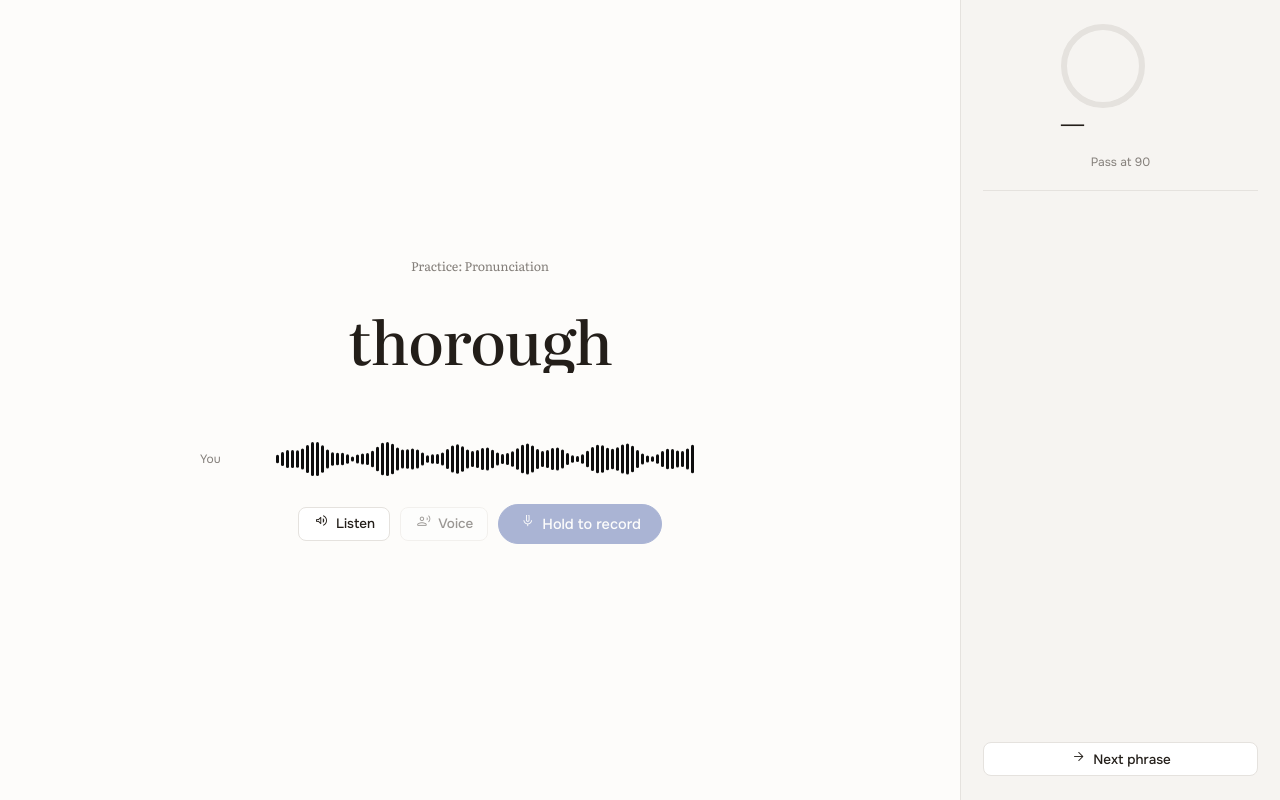
PronunciationDrill › shows labelled You waveform and the Model row only after Listen was played
Expected: the text "You" is shown, [200,451,221,467]
Expected: the text "Model" is not shown
What coordinates should you click on to do the following:
click the button "Listen"
I would click on:
 (344, 524)
Its box is [298,507,390,541].
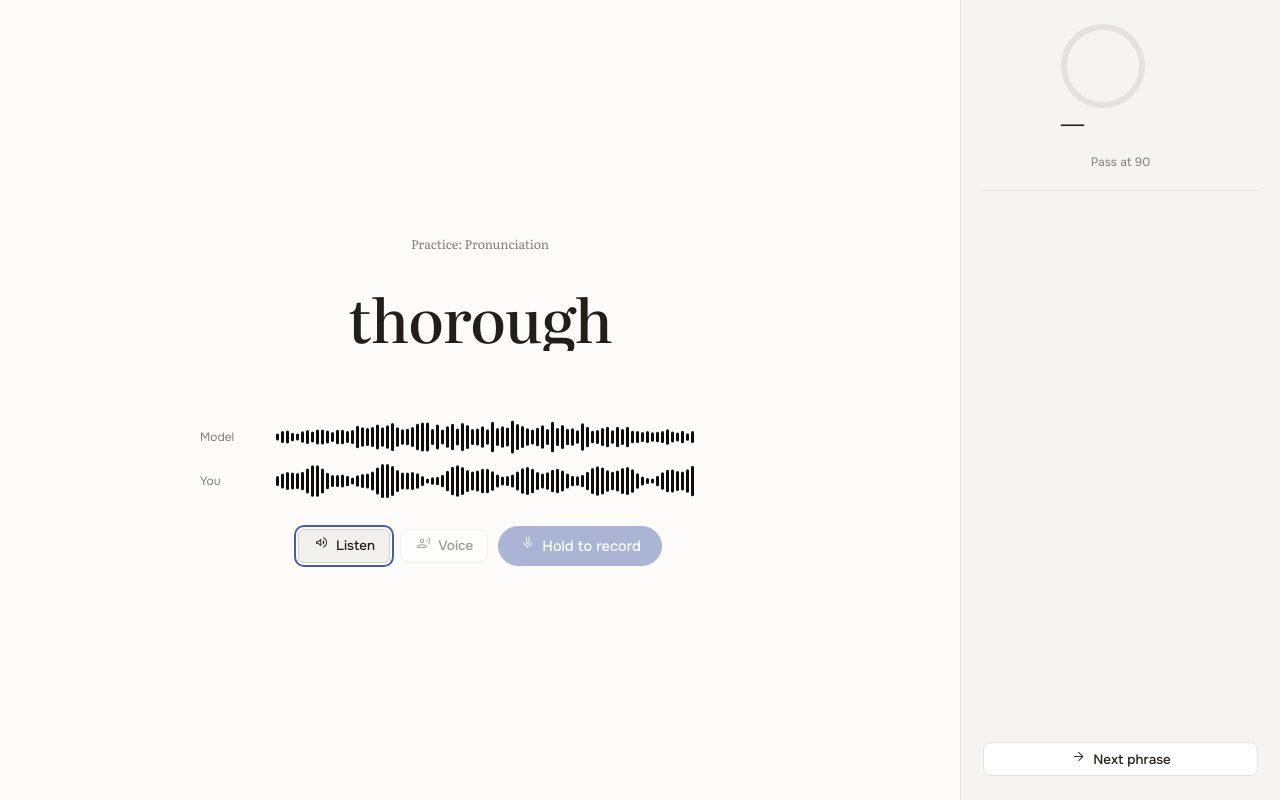
Expected: the text "Model" is shown, [200,429,234,445]
